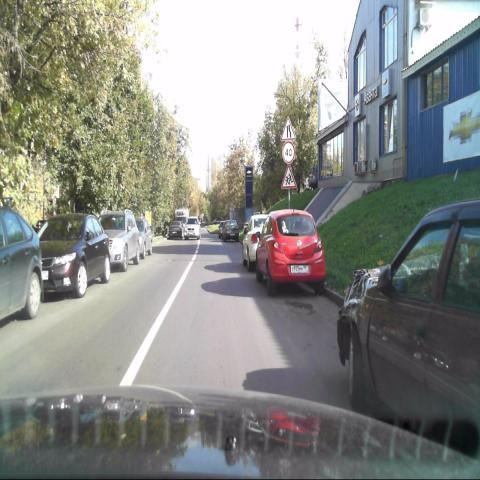1_23: (282, 163, 298, 191)
